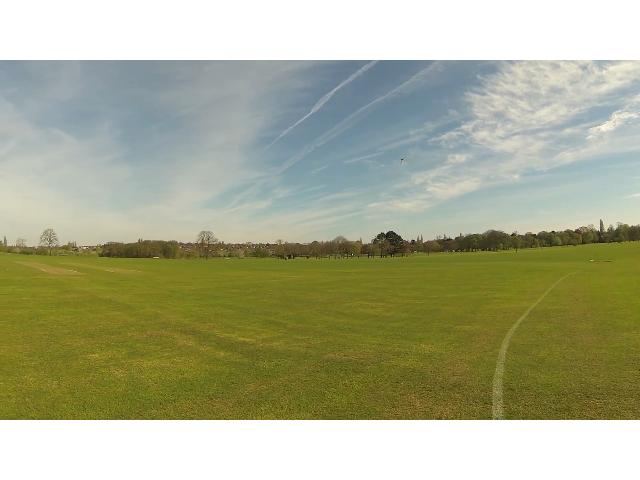Anti-Drone: (391, 152, 413, 168)
